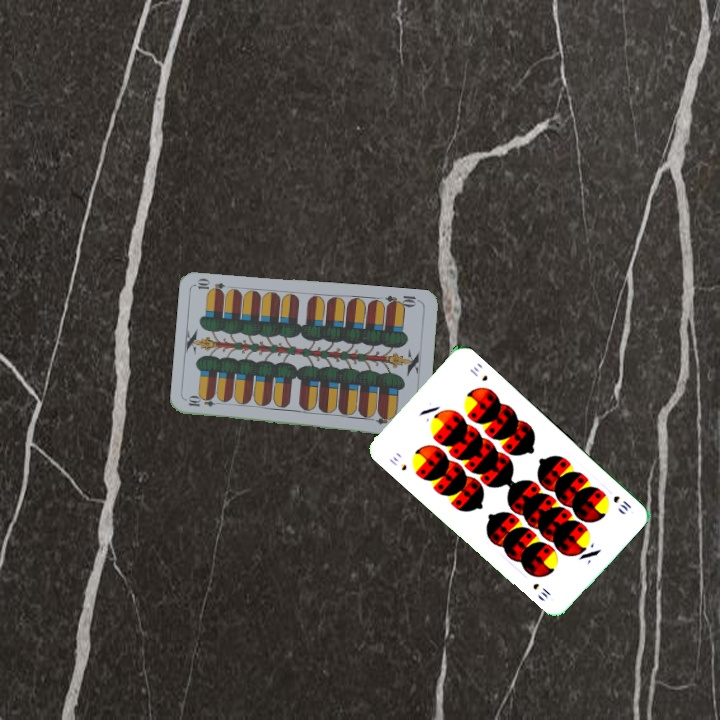E10: (382, 291, 422, 311), (184, 394, 225, 409)
S10: (609, 491, 634, 514), (385, 452, 409, 473)
